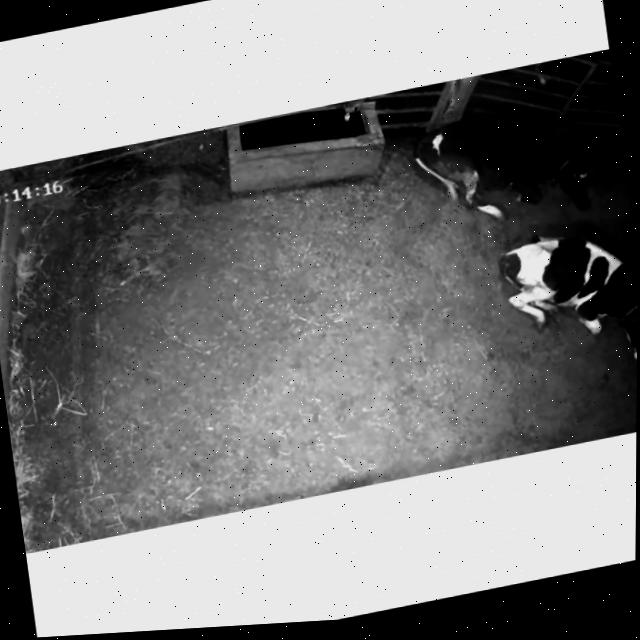lay: (401, 82, 613, 247), (484, 205, 638, 396)
